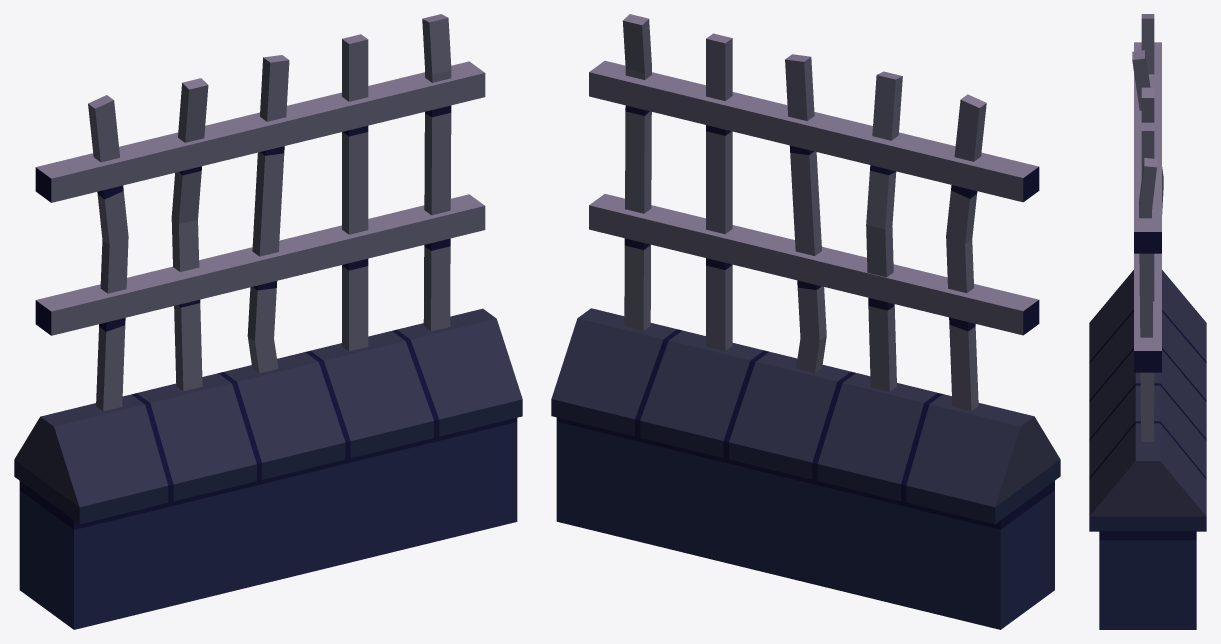
The model's file is MiddleFence.fbx.
The picture shows the model from 3 angles, left to right: view 1: azimuth 30°, elevation 25°; view 2: azimuth 150°, elevation 25°; view 3: azimuth 270°, elevation 25°; orthographic projection. The views are drawn at different scales.
Visible parts, largest first — view 1: GradeMeio; view 2: GradeMeio; view 3: GradeMeio.
Part boxes in pixels (x1=…): GradeMeio: x1=14, y1=14, x2=522, y2=629; GradeMeio: x1=551, y1=14, x2=1060, y2=629; GradeMeio: x1=1089, y1=14, x2=1206, y2=629.
Bounding box in the file's own units: 151 × 160 × 38.13.
